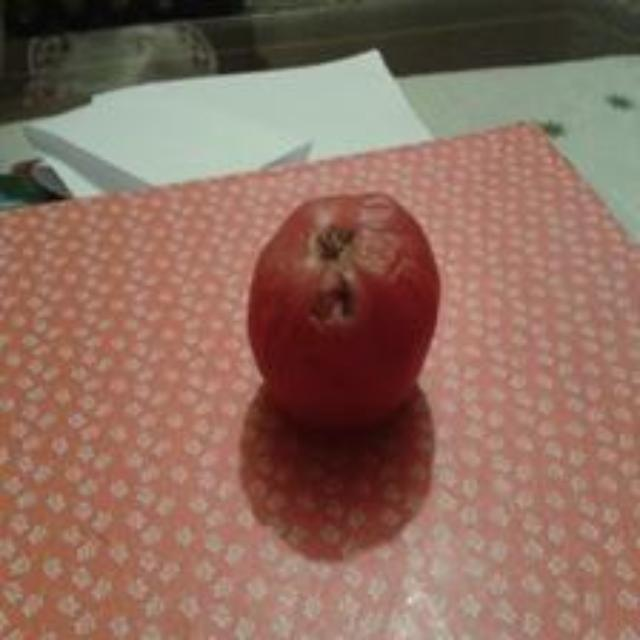defect: (238, 186, 449, 436)
